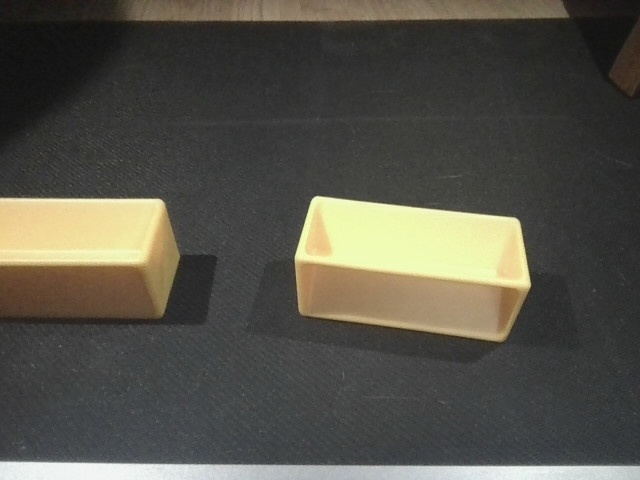YellowSample: (290, 192, 534, 350), (1, 194, 183, 324)
